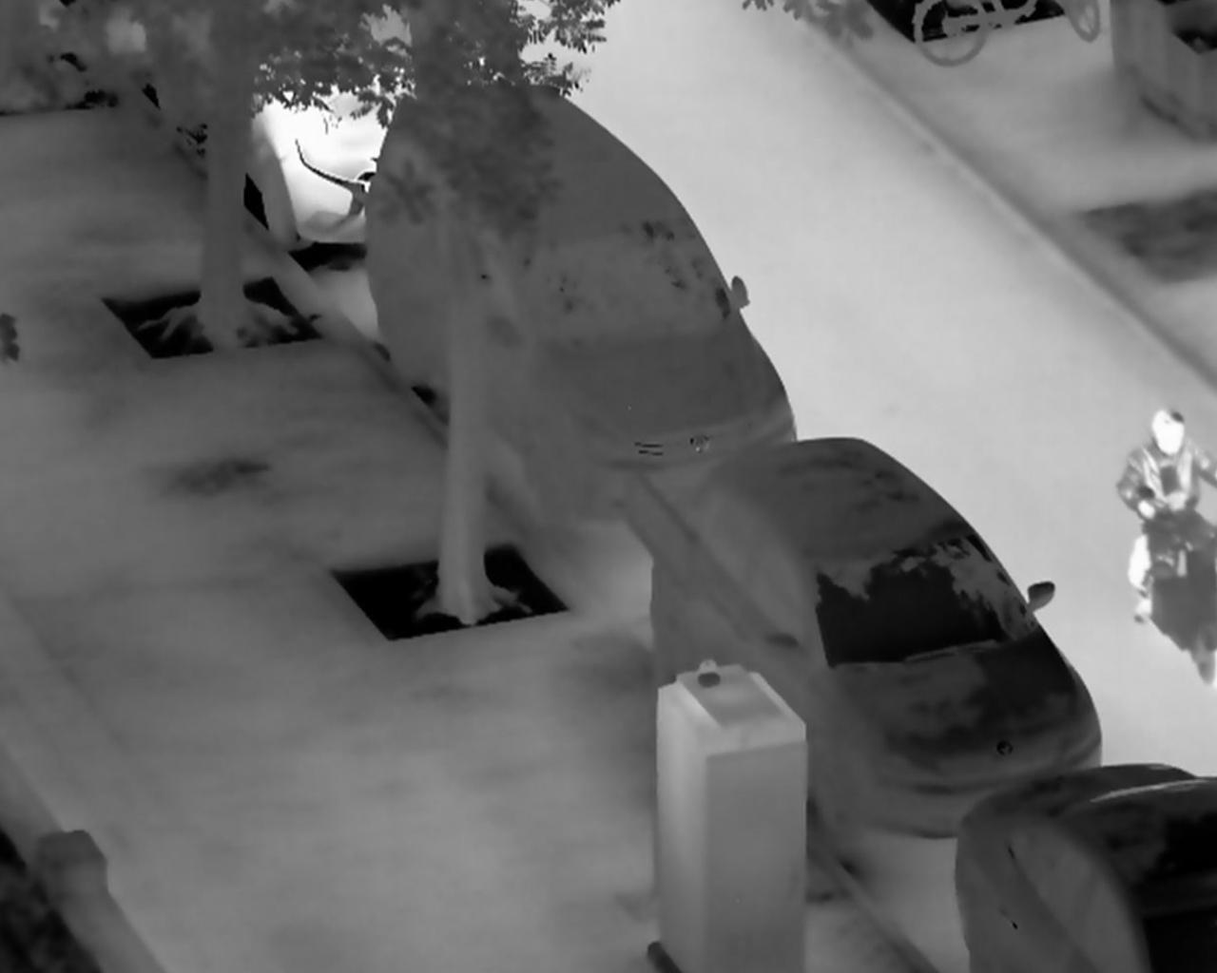person: (1112, 408, 1217, 627)
